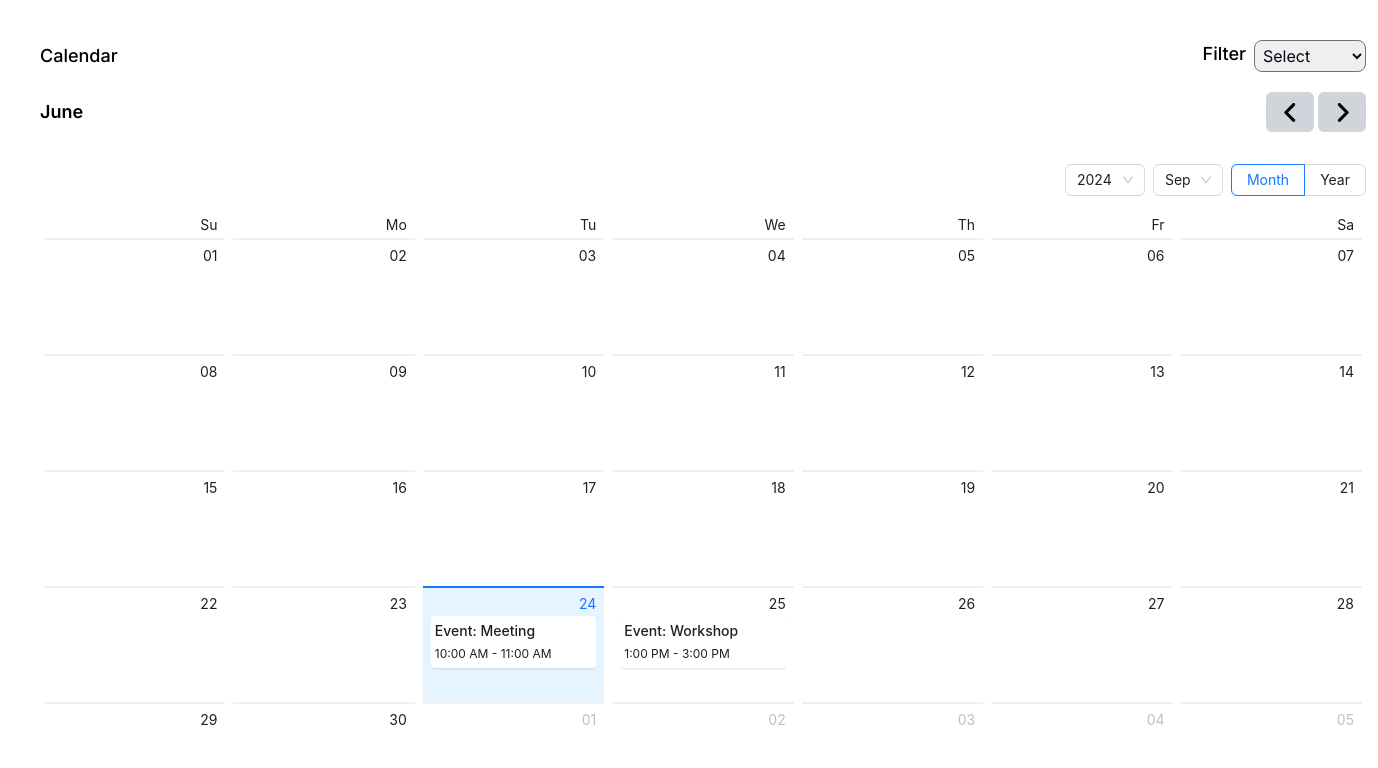
Test: CalendarPage › shows the 'Add' button when a date is clicked
// Simulate a click on the date cell
Click the text "24".
click(588, 604)  # box [579,595,596,612]
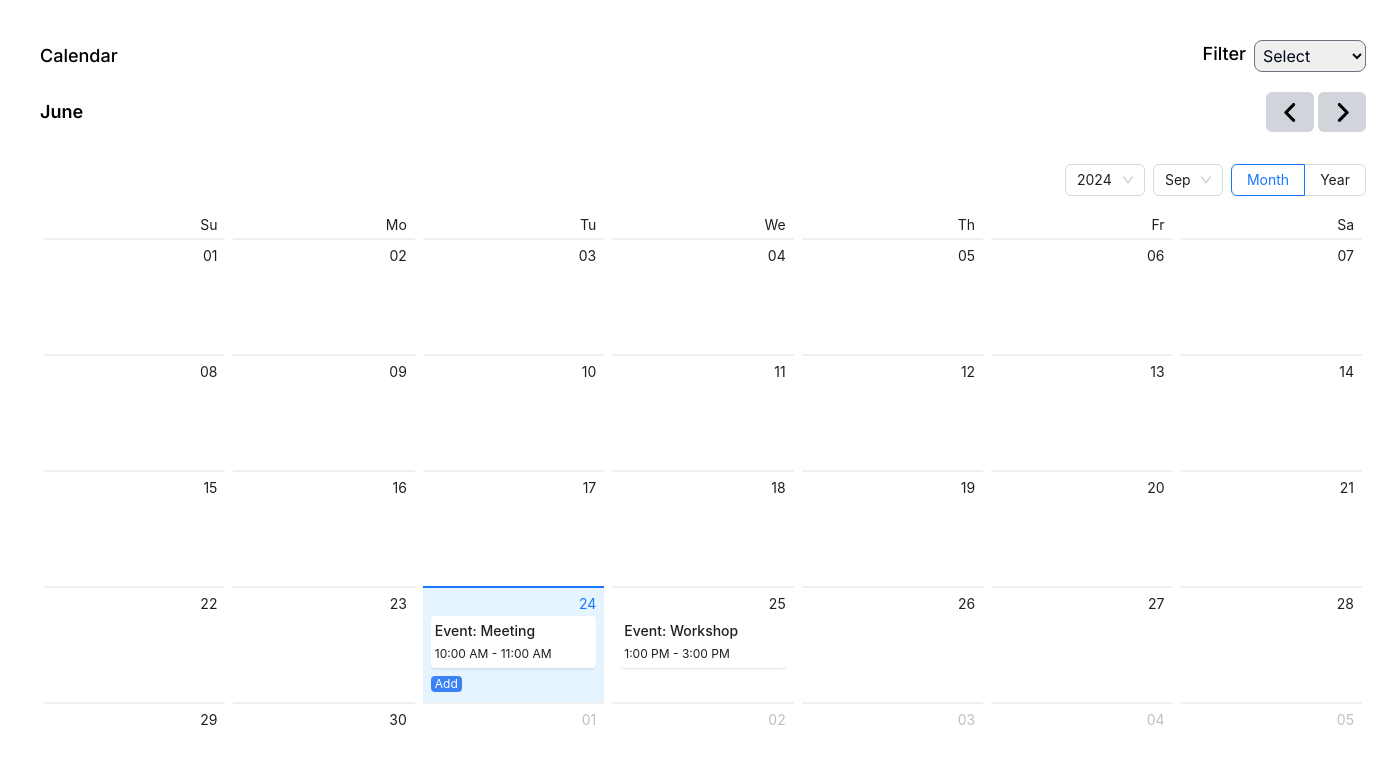
Check: the button "Add" is shown, box [431,676,462,692]
